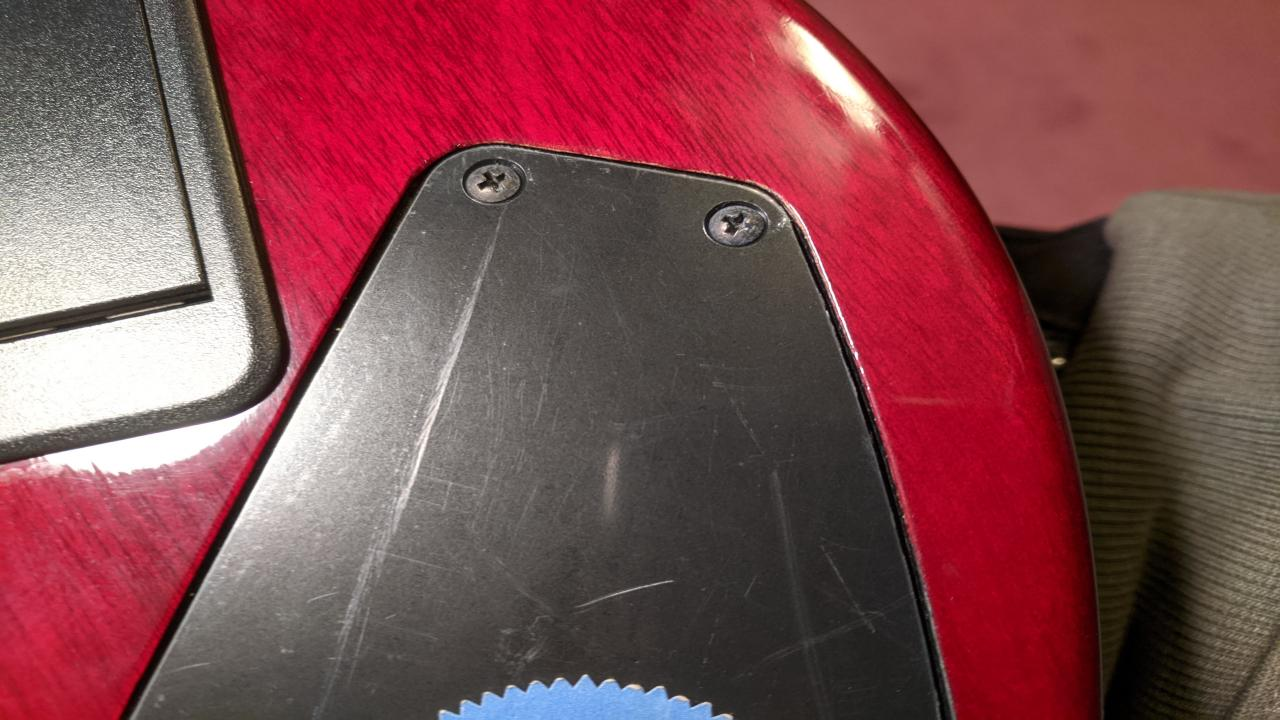CRS: (699, 195, 767, 246), (462, 154, 527, 203)
